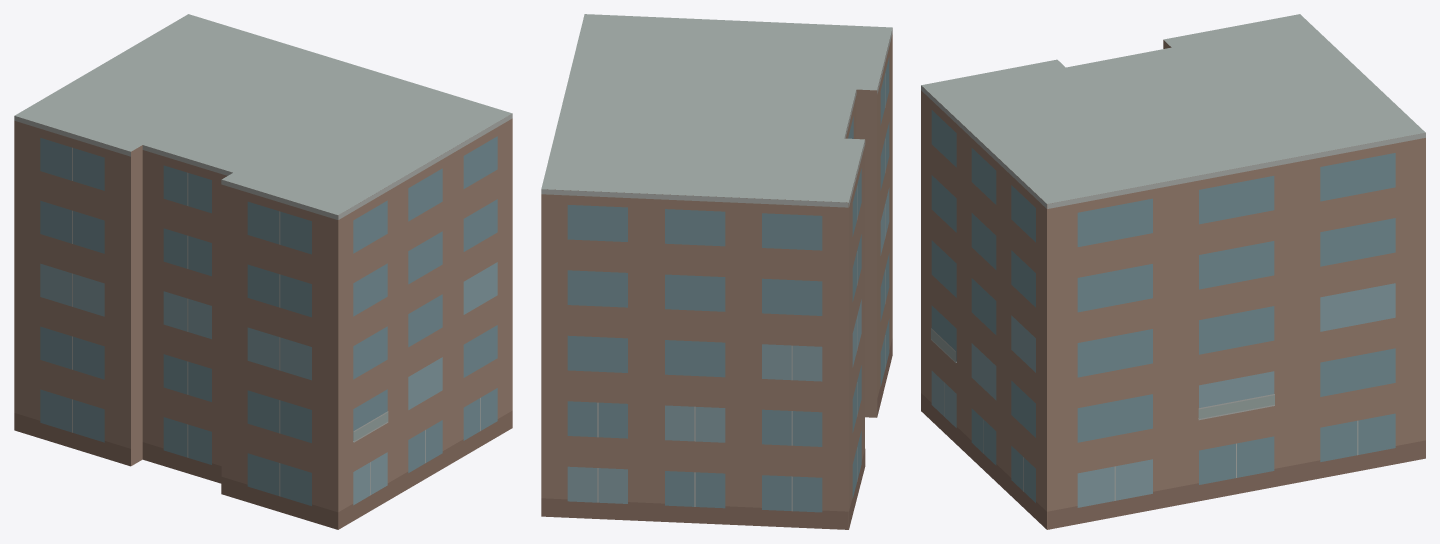
File: survey-upis-32598912.glb
The picture shows the model from 3 angles, left to right: view 1: azimuth 30°, elevation 25°; view 2: azimuth 150°, elevation 25°; view 3: azimuth 270°, elevation 25°; orthographic projection. The views are drawn at different scales.
Visible parts, largest first — view 1: survey-upis-32598912.tmp; view 2: survey-upis-32598912.tmp; view 3: survey-upis-32598912.tmp.
Boxes of the visible parts, box(x1,y1,x2,y2) form: survey-upis-32598912.tmp: box(14, 14, 512, 529); survey-upis-32598912.tmp: box(541, 14, 892, 529); survey-upis-32598912.tmp: box(921, 14, 1425, 529).
Bounding box in the file's own units: 19.53 × 15.6 × 21.91.
